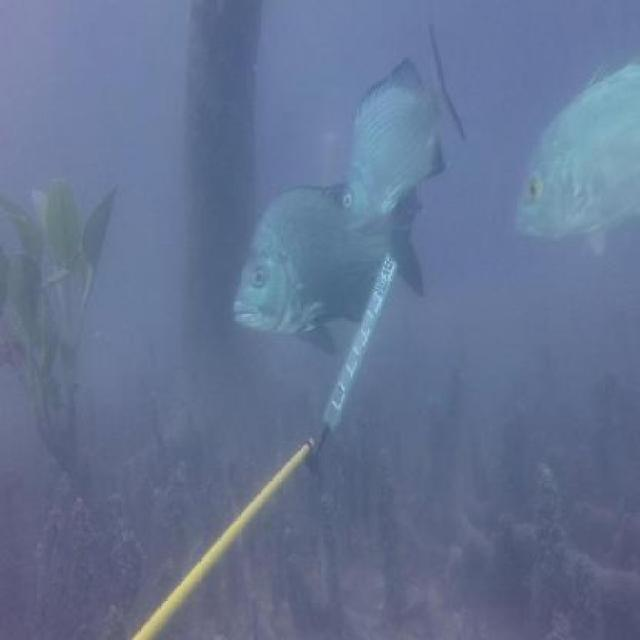Caranx: (507, 55, 640, 261)
acanthopagrus_palmaris: (231, 173, 429, 356), (338, 17, 468, 240)
